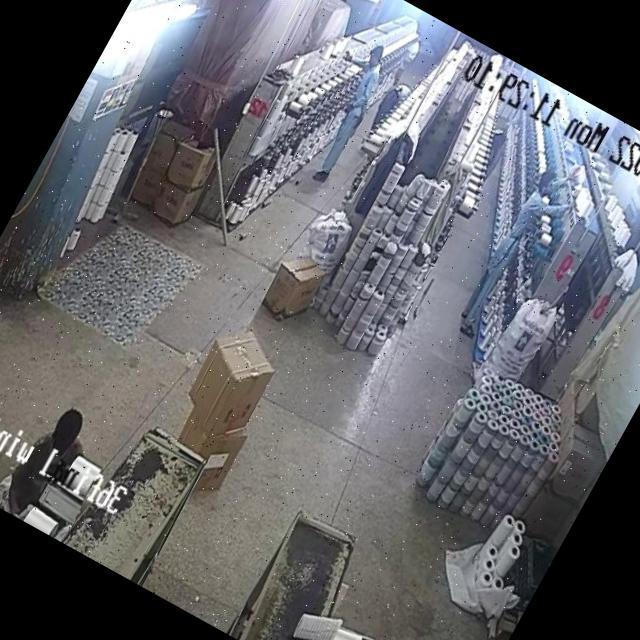person: (446, 165, 560, 344), (303, 39, 399, 185), (12, 396, 100, 506)
